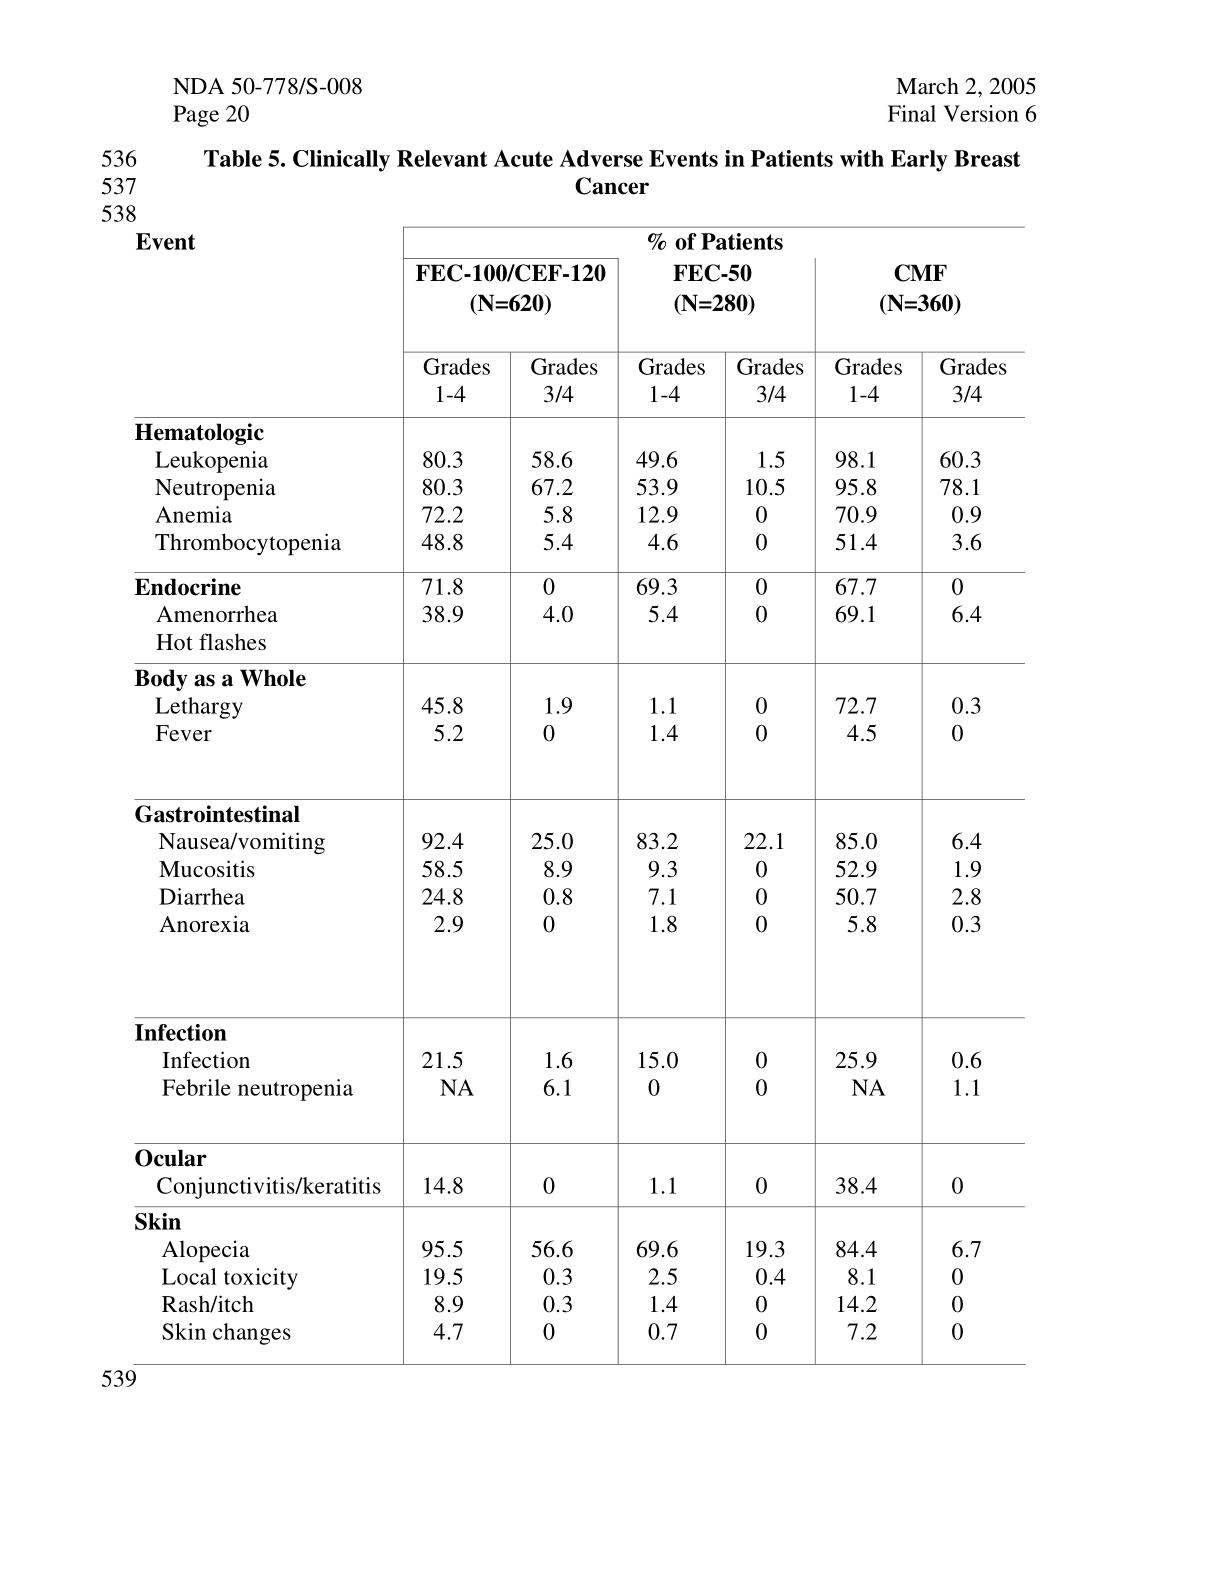partial_lined_merged_cells: (132, 222, 1027, 1368)
